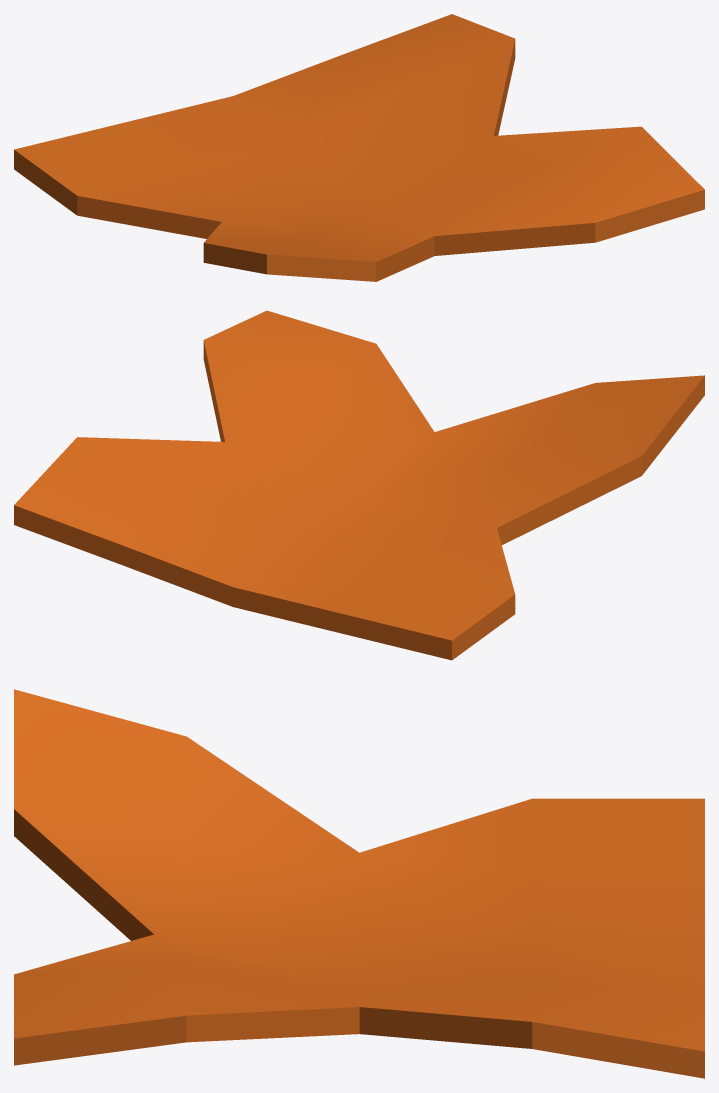
Rendered from post-X-3.fbx.
The picture shows the model from 3 angles, top to bottom: view 1: azimuth 30°, elevation 25°; view 2: azimuth 150°, elevation 25°; view 3: azimuth 270°, elevation 25°; orthographic projection. The views are drawn at different scales.
Visible parts, largest first — view 1: Plane.002; view 2: Plane.002; view 3: Plane.002.
Boxes of the visible parts, x1,y1,x2,y2 form: Plane.002: [14, 14, 704, 281]; Plane.002: [14, 310, 704, 660]; Plane.002: [14, 689, 704, 1078].
Size of the model in its own units: 200 by 43.6 by 200.
